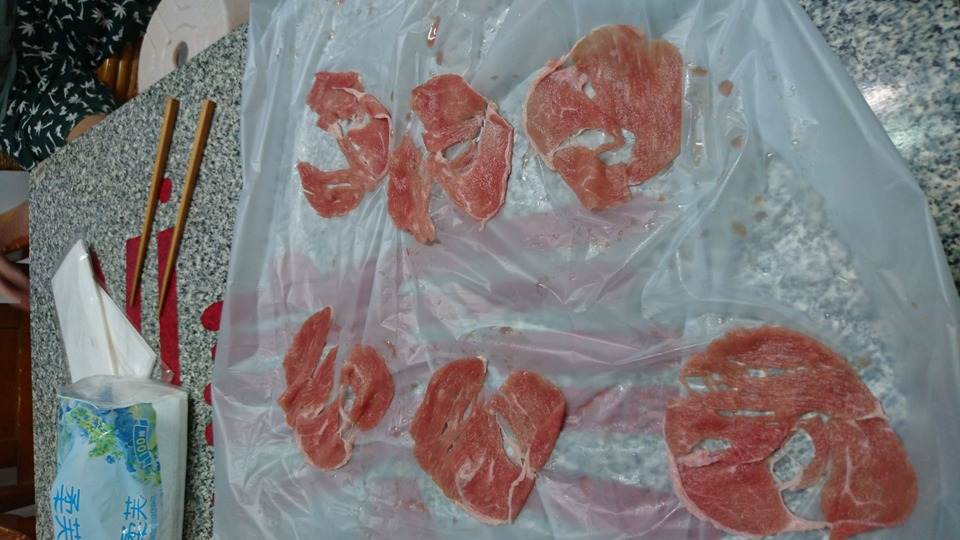restructured meat: (656, 322, 933, 532), (525, 24, 693, 201), (404, 356, 582, 512), (259, 301, 404, 474), (392, 69, 505, 248), (293, 82, 385, 217)
